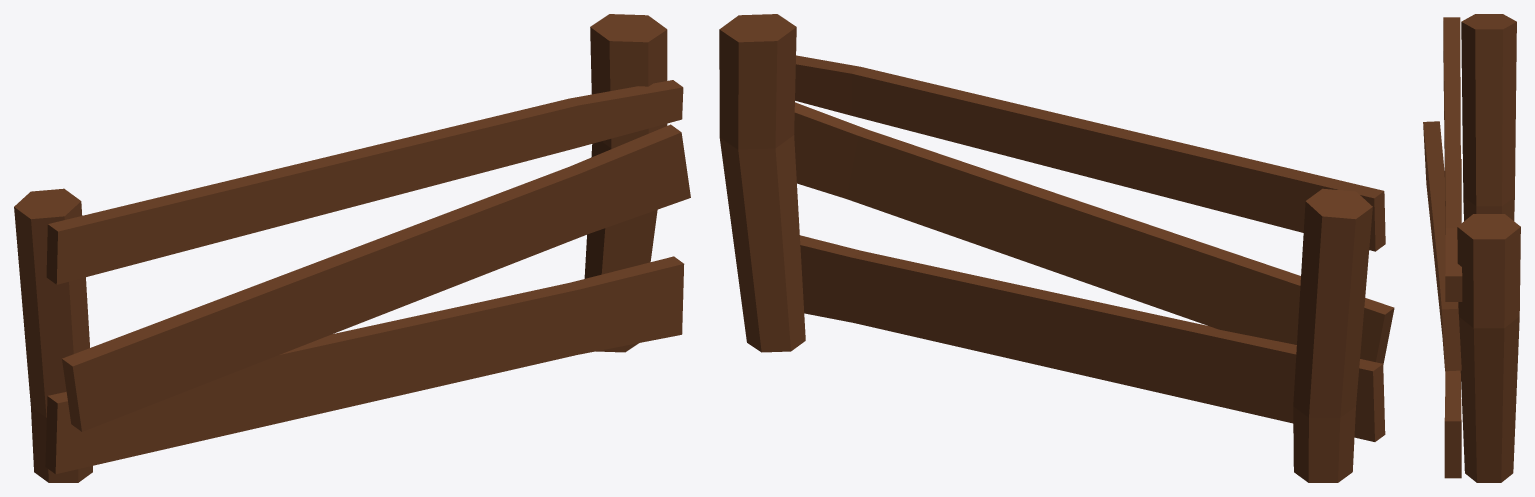
The model's file is Fence_Tile_8.fbx.
3 views of the same model, side by side, from view 1: azimuth 30°, elevation 25°; view 2: azimuth 150°, elevation 25°; view 3: azimuth 270°, elevation 25° (orthographic). The views are drawn at different scales.
Parts seen in each view (by area): view 1: Fence_Tile_8; view 2: Fence_Tile_8; view 3: Fence_Tile_8.
Boxes of the visible parts, x1,y1,x2,y2 form: Fence_Tile_8: [14, 14, 690, 482]; Fence_Tile_8: [719, 14, 1394, 482]; Fence_Tile_8: [1423, 14, 1520, 482].
Size of the model in its own units: 263 by 122 by 42.29.
